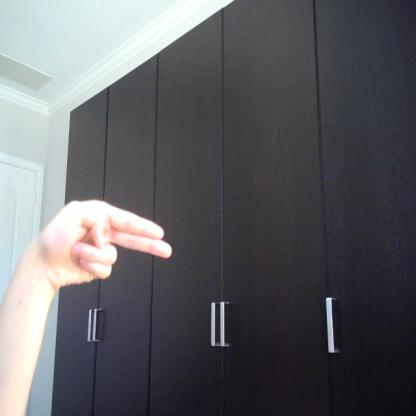H: (32, 199, 174, 292)
